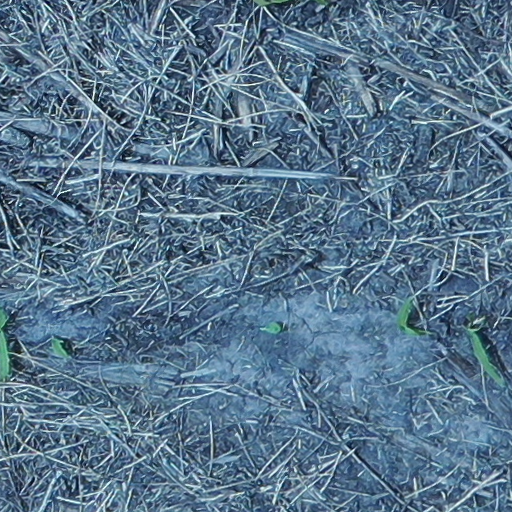planta: (469, 328, 500, 381), (397, 299, 428, 335)
